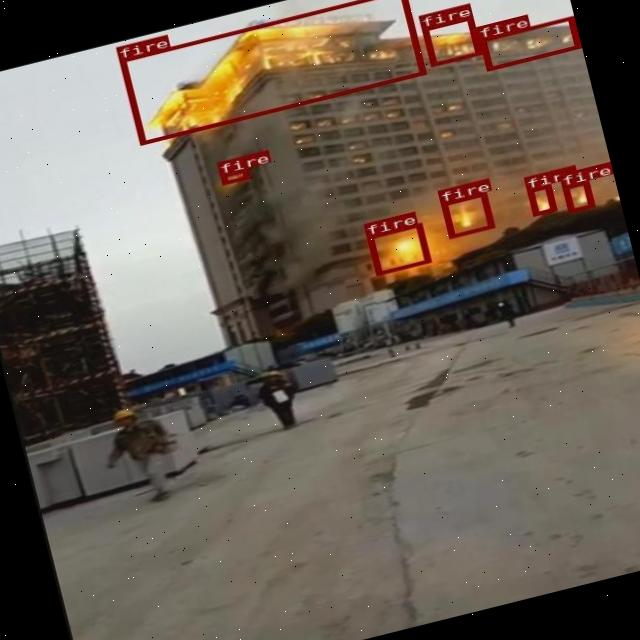fire: (118, 0, 425, 143), (478, 15, 578, 70), (366, 222, 429, 275), (420, 16, 480, 67), (440, 192, 493, 238), (560, 179, 594, 212), (526, 183, 556, 216), (218, 168, 248, 185)
